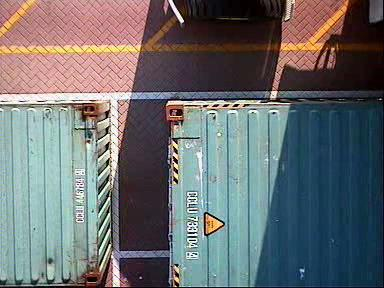groundmarker_2: (249, 27, 319, 72), (249, 97, 319, 142), (252, 225, 321, 270)
